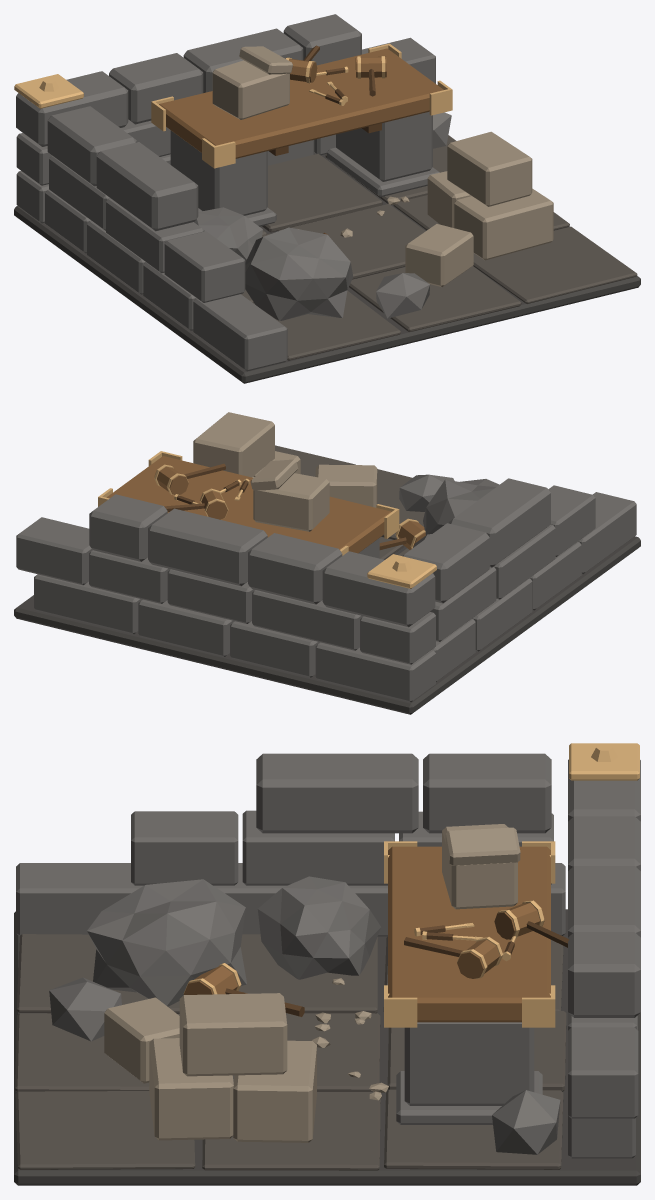
The model's file is mason.glb.
3 views of the same model, one above another, from view 1: azimuth 30°, elevation 25°; view 2: azimuth 150°, elevation 25°; view 3: azimuth 270°, elevation 25° (orthographic). The views are drawn at different scales.
Visible parts, largest first — view 1: wall_left, floor_flagstones, wall_back, bench_top, floor_slab, boulder_1, bench_leg_r, bench_leg_l, cut_block_1, cut_block_3, workpiece, cut_block_4 (+9 smaller); view 2: wall_back, wall_left, floor_slab, bench_top, workpiece, cut_block_3, floor_flagstones, boulder_1, cut_block_4, corner_cap, boulder_2, mallet_1 (+3 smaller); view 3: floor_flagstones, wall_left, wall_back, bench_top, floor_slab, boulder_1, bench_leg_r, boulder_3, cut_block_3, cut_block_2, cut_block_1, workpiece (+10 smaller).
Boxes of the visible parts, x1,y1,x2,y2 form: wall_left: (45, 106, 287, 371); floor_flagstones: (241, 135, 637, 360); wall_back: (16, 14, 435, 223); bench_top: (159, 48, 443, 158); floor_slab: (14, 152, 640, 383); boulder_1: (245, 227, 353, 320); bench_leg_r: (327, 111, 439, 197); bench_leg_l: (170, 130, 276, 226); cut_block_1: (454, 188, 553, 260); cut_block_3: (447, 131, 532, 206); workpiece: (212, 46, 292, 119); cut_block_4: (405, 224, 473, 287); wall_back: (16, 494, 435, 702); wall_left: (402, 478, 636, 681); floor_slab: (14, 536, 640, 714); bench_top: (106, 456, 391, 553); workpiece: (250, 459, 329, 531); cut_block_3: (193, 412, 274, 477); floor_flagstones: (275, 445, 424, 559); boulder_1: (423, 479, 499, 534); cut_block_4: (315, 464, 377, 507); corner_cap: (367, 554, 436, 588); boulder_2: (399, 474, 454, 511); mallet_1: (154, 463, 225, 495); floor_flagstones: (15, 934, 566, 1170); wall_left: (16, 753, 565, 936); wall_back: (568, 759, 640, 1158); bench_top: (388, 846, 550, 1022); floor_slab: (14, 909, 640, 1185); boulder_1: (87, 879, 246, 1006); bench_leg_r: (396, 1022, 542, 1124); boulder_3: (257, 876, 380, 979); cut_block_3: (179, 993, 287, 1076); cut_block_2: (233, 1040, 316, 1142); cut_block_1: (149, 1038, 233, 1140); workpiece: (442, 824, 520, 909).
Size of what is drawn, in the model's own units: 3 by 1.14 by 3.
